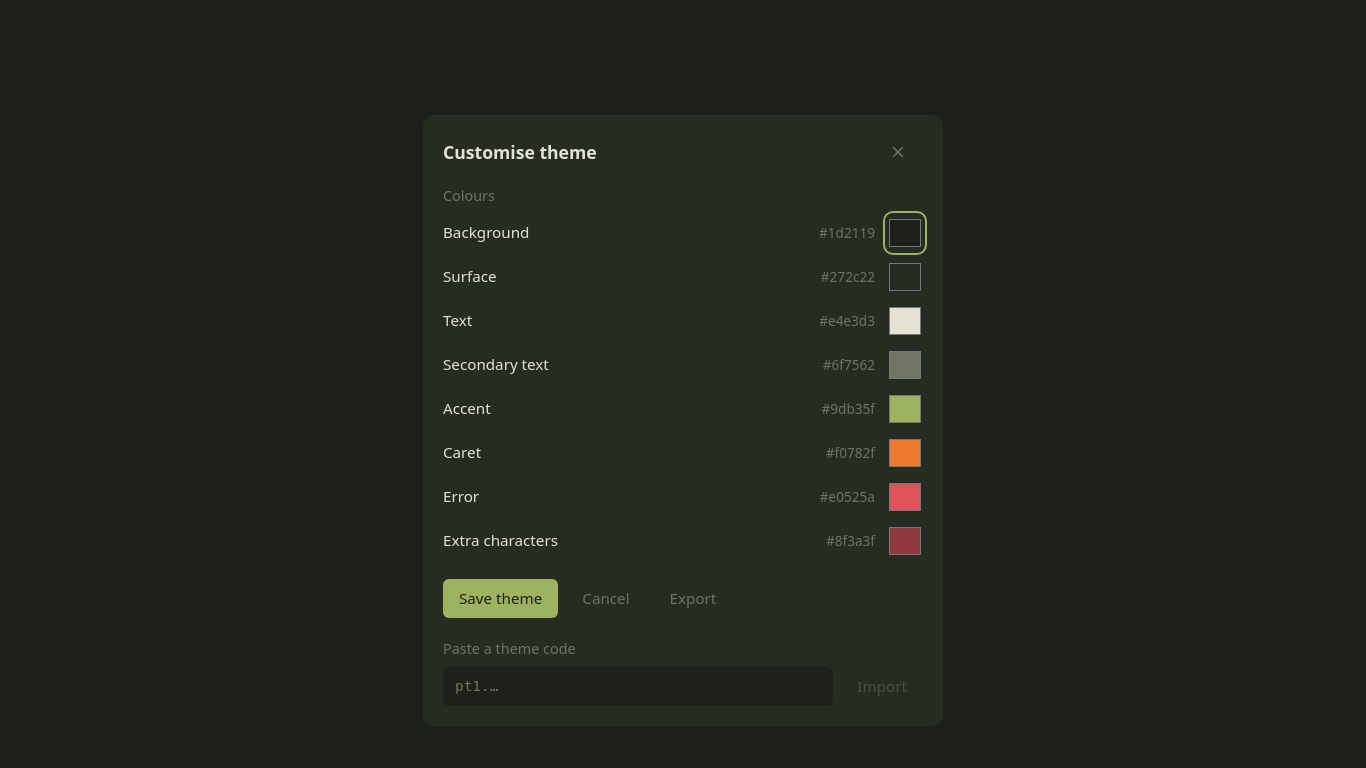
Test: ThemeEditor › exports a pt1 code to the clipboard and confirms it
The width and height of the screenshot is (1366, 768).
Click the button "Export": (693, 598) [654, 579, 732, 618]
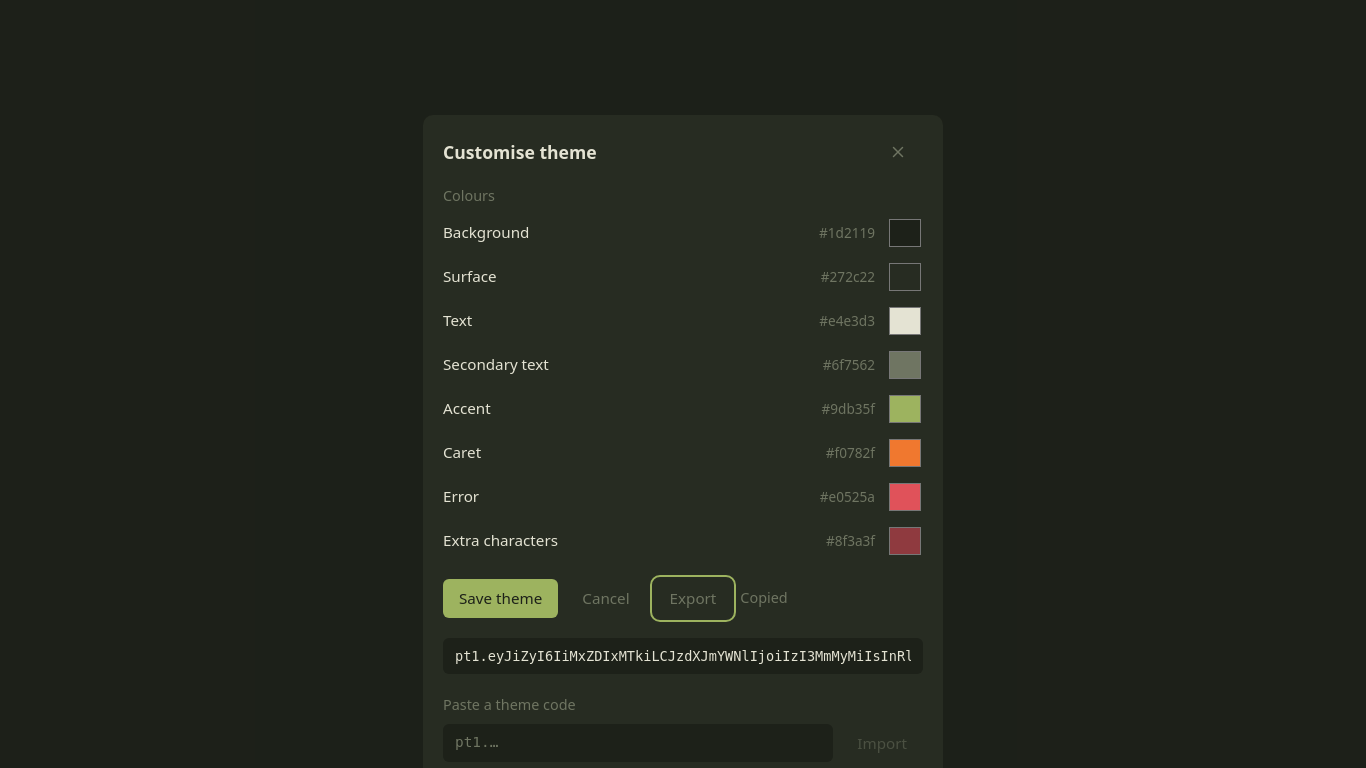
Check: the text "Copied" is shown, box [740, 587, 788, 609]
